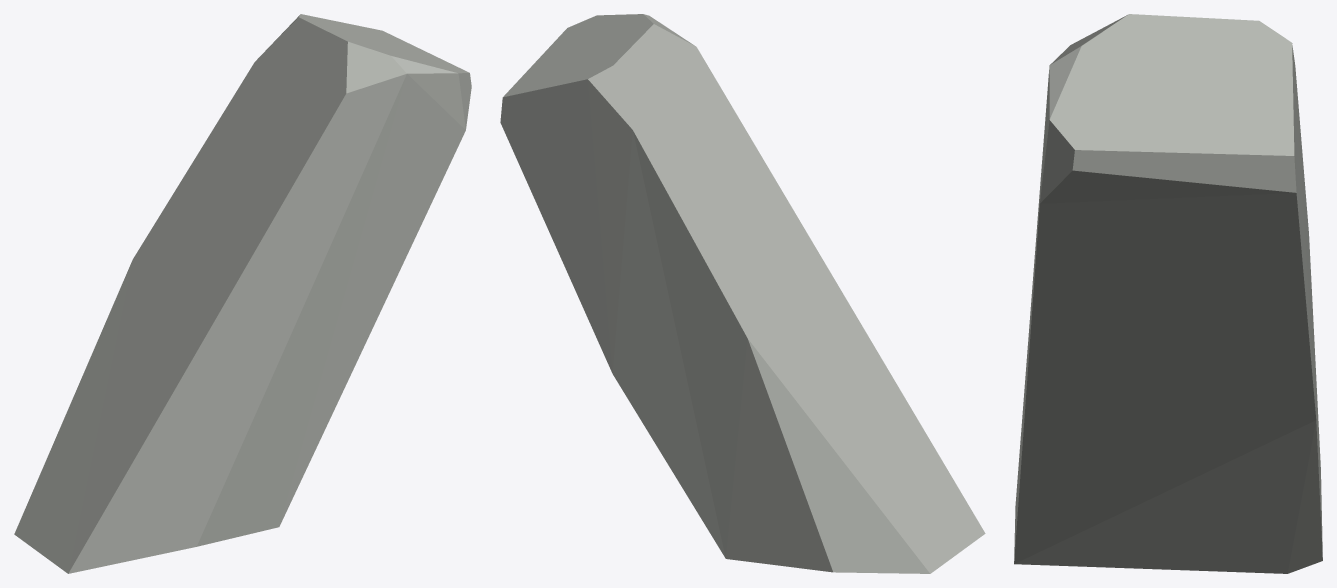
Rendered from Rock_Square_l_05.fbx.
3 views of the same model, side by side, from view 1: azimuth 30°, elevation 25°; view 2: azimuth 150°, elevation 25°; view 3: azimuth 270°, elevation 25° (orthographic). The views are drawn at different scales.
Parts seen in each view (by area): view 1: Rock_Square_l_05; view 2: Rock_Square_l_05; view 3: Rock_Square_l_05.
Part boxes in pixels (box(x1,y1,x2,y2)): Rock_Square_l_05: box(14, 14, 471, 573); Rock_Square_l_05: box(500, 14, 985, 573); Rock_Square_l_05: box(1014, 14, 1322, 573).
Bounding box in the file's own units: 3.9 × 4.05 × 1.76.
